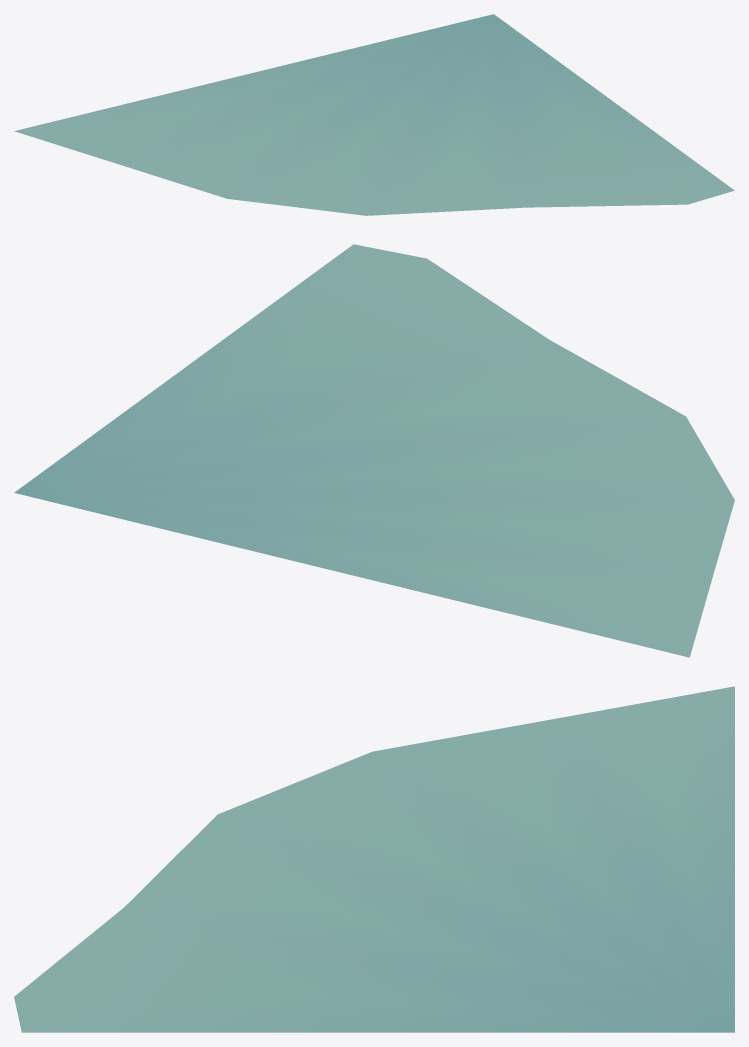
Rendered from water-14-13.glb.
3 views of the same model, one above another, from view 1: azimuth 30°, elevation 25°; view 2: azimuth 150°, elevation 25°; view 3: azimuth 270°, elevation 25° (orthographic). The views are drawn at different scales.
Bounding box in the file's own units: 9.49 × 0 × 8.35.
